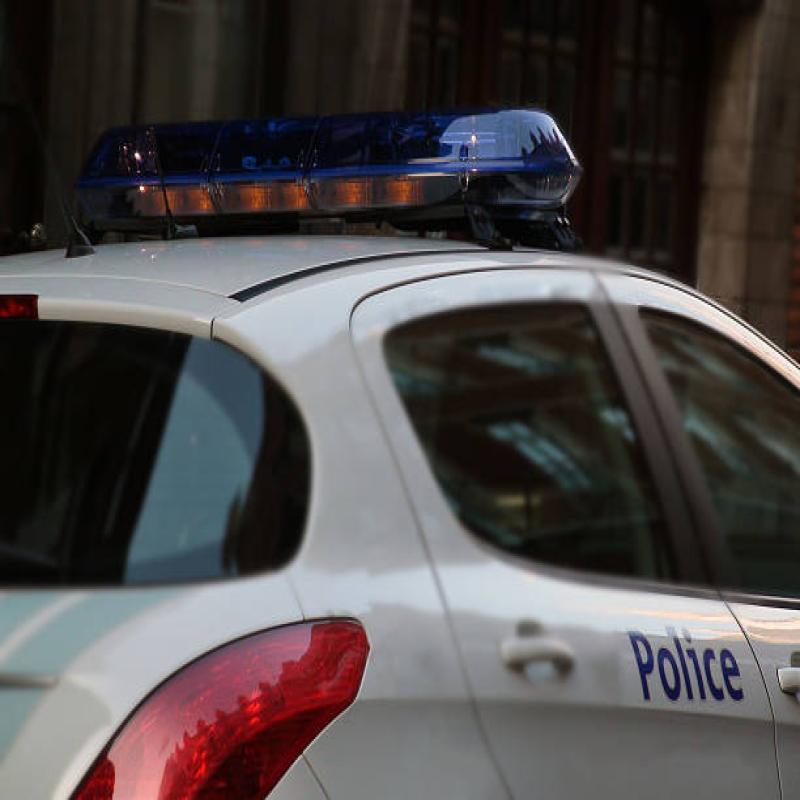AmbulanceSiren: (51, 86, 605, 265)
